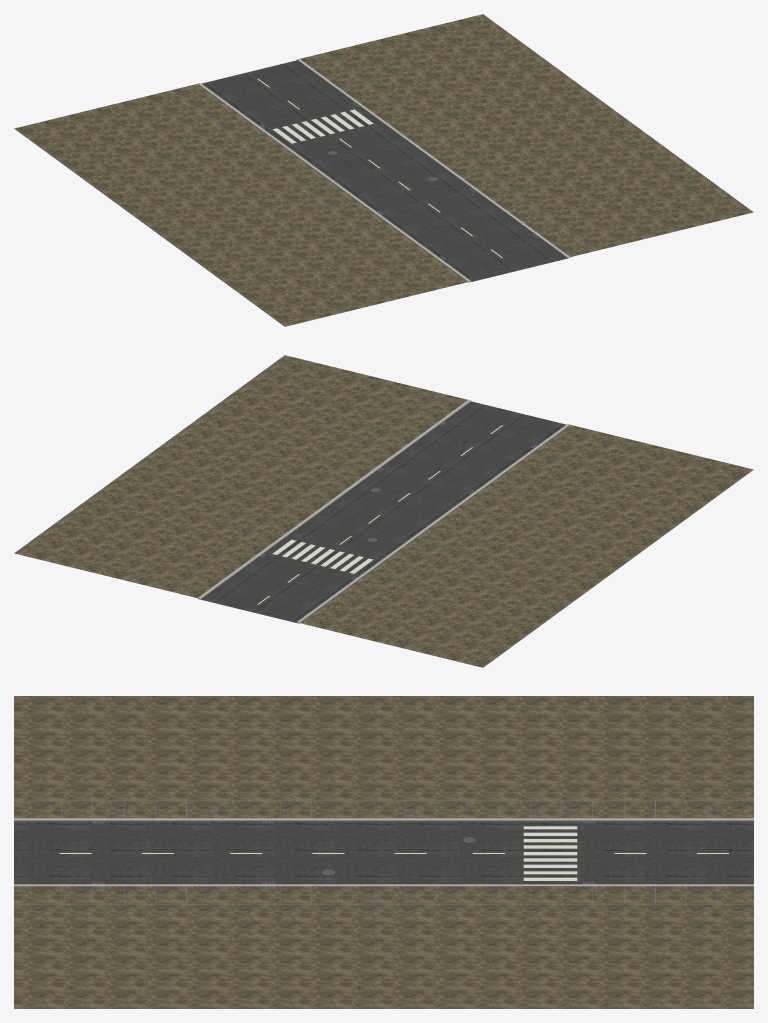
The model's file is street.glb.
3 views of the same model, one above another, from view 1: azimuth 30°, elevation 25°; view 2: azimuth 150°, elevation 25°; view 3: azimuth 270°, elevation 25° (orthographic). The views are drawn at different scales.
Visible parts, largest first — view 1: Urban street and sidewalks; view 2: Urban street and sidewalks; view 3: Urban street and sidewalks.
Boxes of the visible parts, <box> form: Urban street and sidewalks: <box>14,14,753,326</box>; Urban street and sidewalks: <box>14,355,753,667</box>; Urban street and sidewalks: <box>14,696,753,1008</box>.
Bounding box in the file's own units: 36 × 0.077 × 36.
7 materials, 2 textured.
